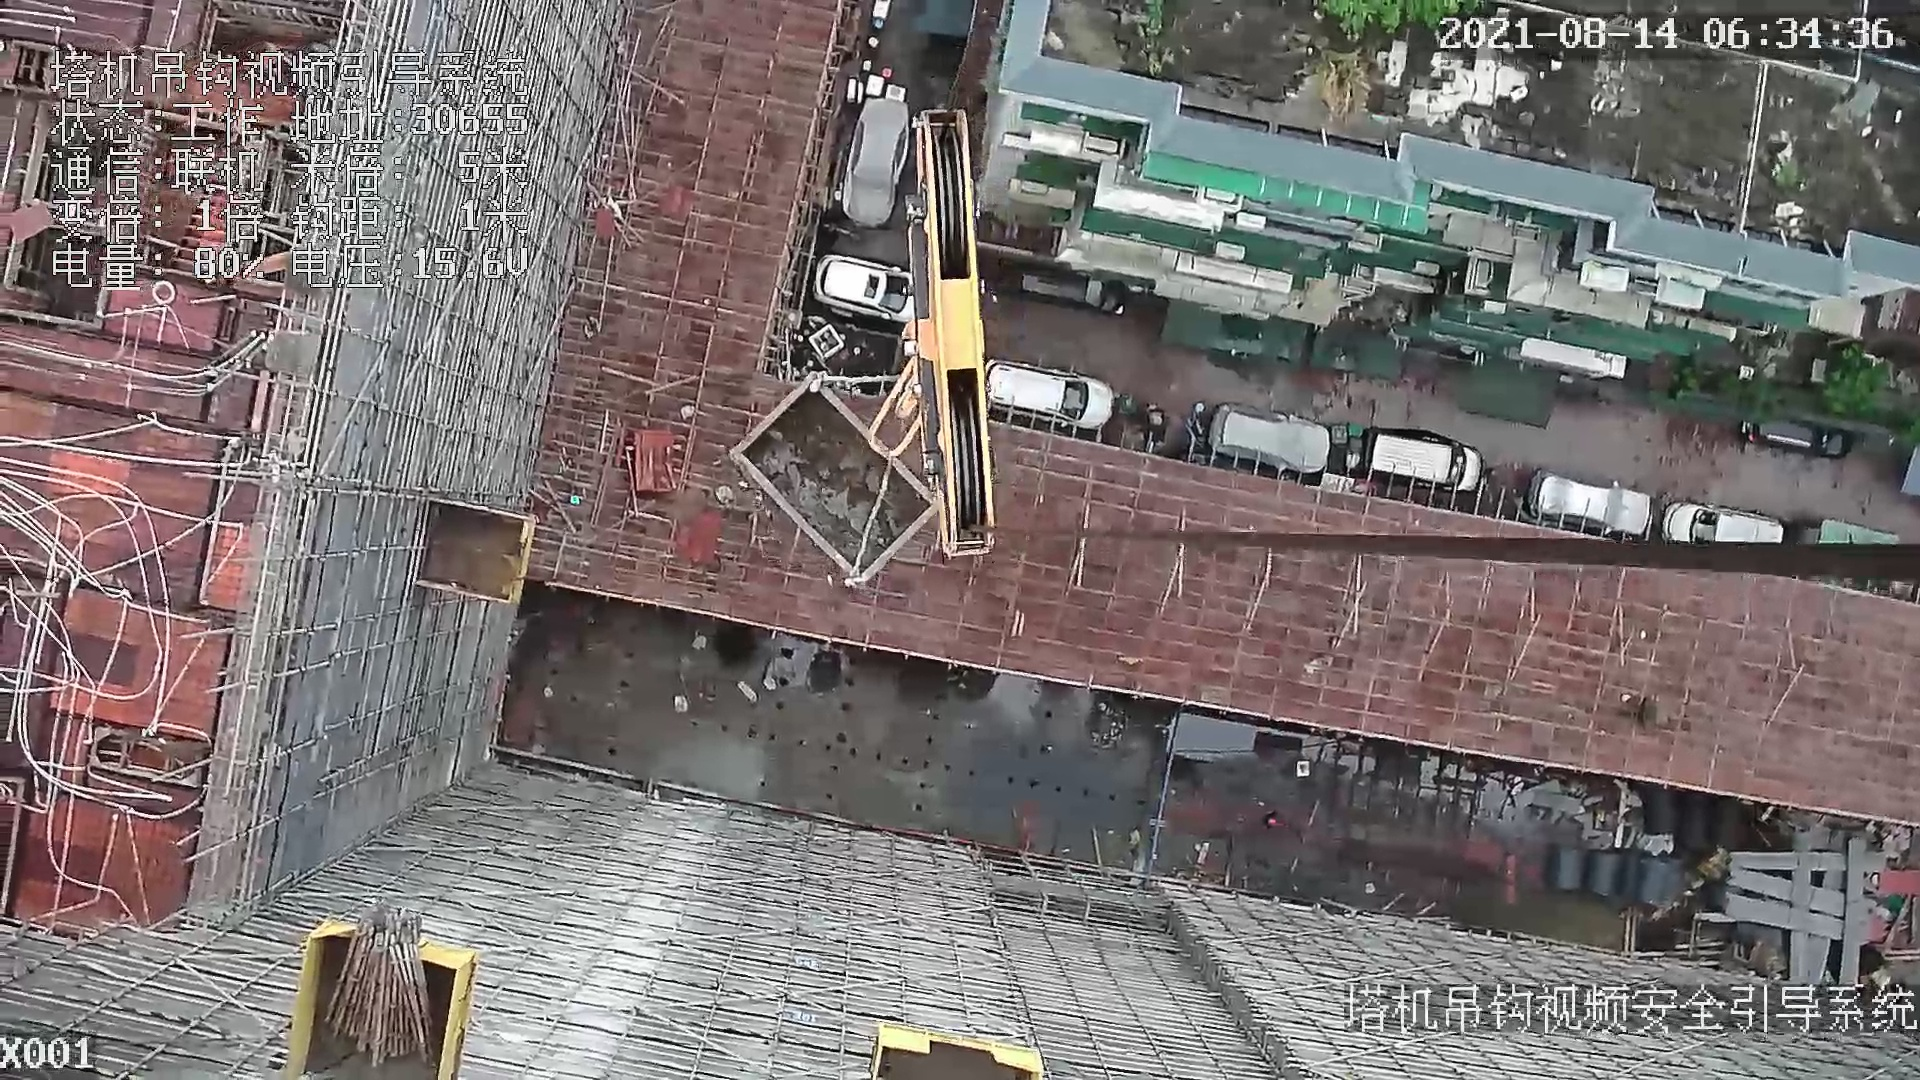hook: (868, 103, 994, 555)
hopper: (732, 382, 940, 600)
scaffold: (320, 895, 438, 1067)
